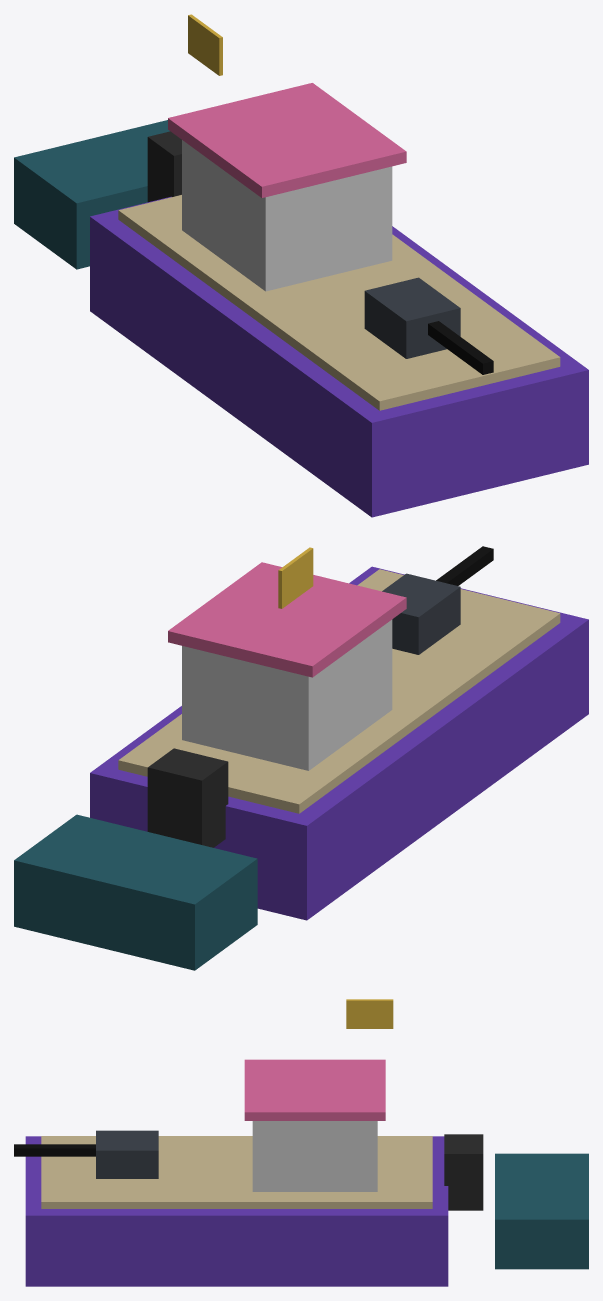
The model's file is boat_player.glb.
3 renders of one model, top to bottom at view 1: azimuth 30°, elevation 25°; view 2: azimuth 150°, elevation 25°; view 3: azimuth 270°, elevation 25°, orthographic. The views are drawn at different scales.
Visible parts, largest first — view 1: boat_player, netbag, turret, flag; view 2: boat_player, netbag, turret, flag; view 3: boat_player, netbag, turret, flag.
Part boxes in pixels (bbox=[...]): boat_player: bbox=[90, 83, 588, 517]; netbag: bbox=[14, 120, 169, 269]; turret: bbox=[364, 277, 493, 374]; flag: bbox=[188, 14, 222, 75]; boat_player: bbox=[90, 562, 588, 920]; netbag: bbox=[14, 814, 257, 970]; turret: bbox=[382, 546, 493, 654]; flag: bbox=[278, 547, 313, 608]; boat_player: bbox=[25, 1059, 483, 1286]; netbag: bbox=[495, 1153, 588, 1269]; turret: bbox=[14, 1130, 158, 1178]; flag: bbox=[346, 999, 393, 1028].
Bounding box in the file's own units: 2.4 × 3.25 × 7.35.
